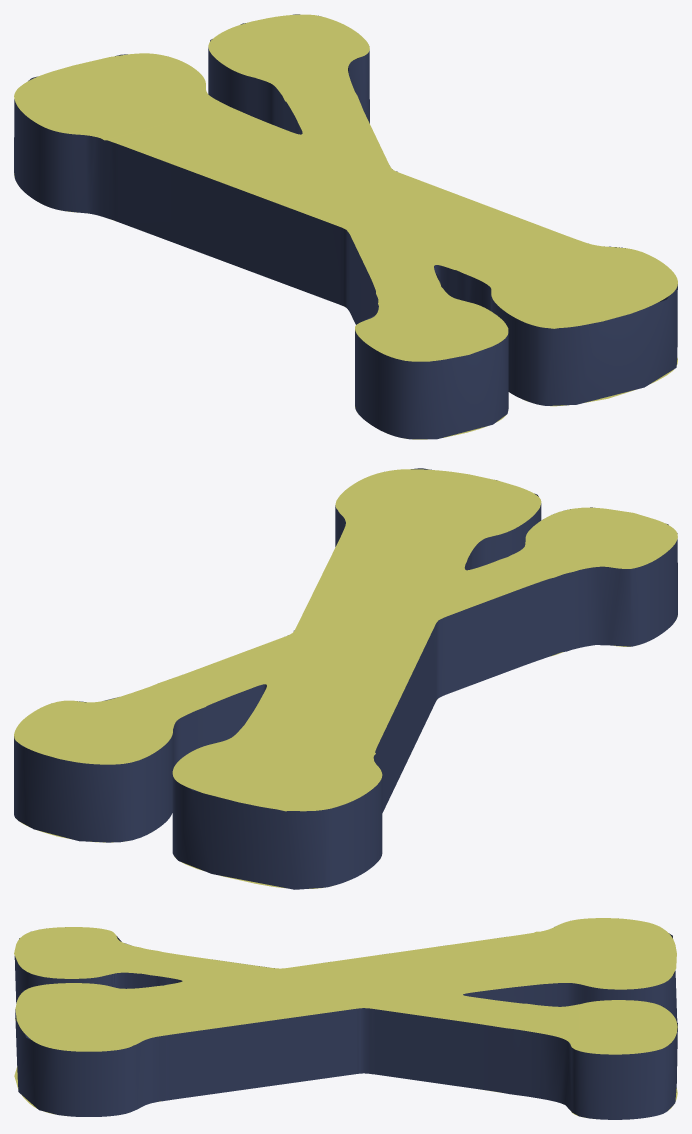
Rendered from x_boss.fbx.
3 renders of one model, top to bottom at view 1: azimuth 30°, elevation 25°; view 2: azimuth 150°, elevation 25°; view 3: azimuth 270°, elevation 25°, orthographic. The views are drawn at different scales.
Visible parts, largest first — view 1: X; view 2: X; view 3: X.
Boxes of the visible parts, bbox=[...] form: X: bbox=[14, 14, 677, 439]; X: bbox=[14, 468, 677, 889]; X: bbox=[14, 918, 677, 1119].
Size of the model in its own units: 0.7165 by 0.1599 by 1.47.
